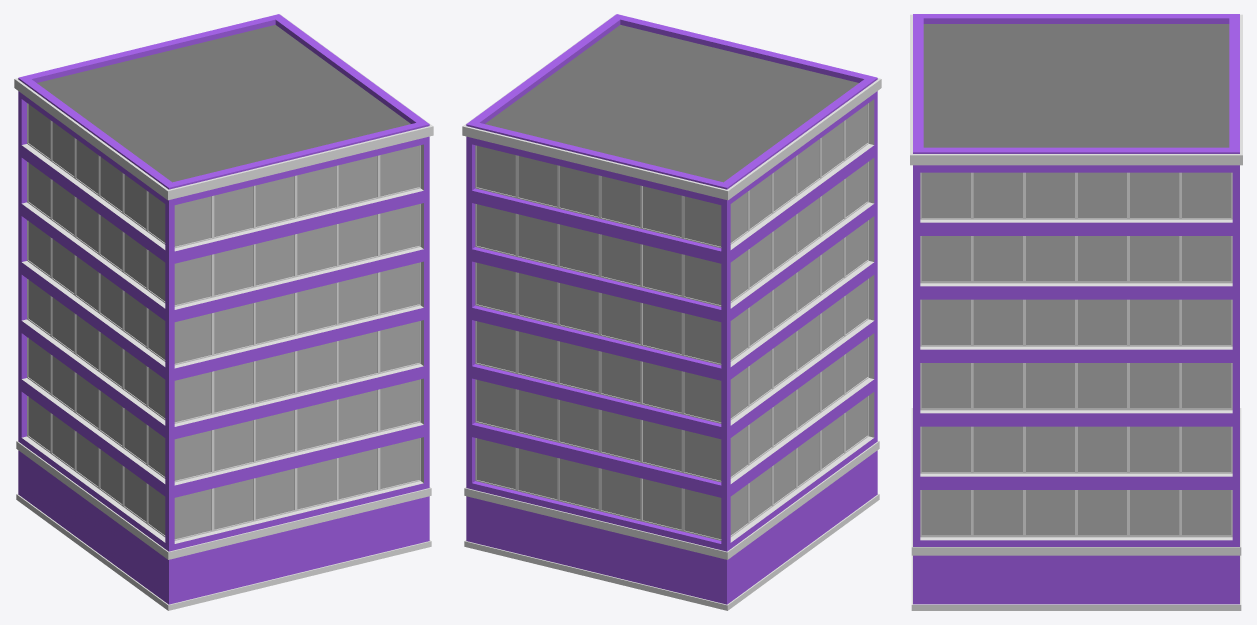
The model's file is SM_House_04_05.FBX.
3 views of the same model, side by side, from view 1: azimuth 30°, elevation 25°; view 2: azimuth 150°, elevation 25°; view 3: azimuth 270°, elevation 25° (orthographic). The views are drawn at different scales.
Visible parts, largest first — view 1: SM_House_04_05; view 2: SM_House_04_05; view 3: SM_House_04_05.
Part boxes in pixels (x1=…): SM_House_04_05: x1=14, y1=14, x2=433, y2=610; SM_House_04_05: x1=462, y1=14, x2=881, y2=610; SM_House_04_05: x1=910, y1=14, x2=1242, y2=610.
Bounding box in the file's own units: 6.11 × 9.28 × 6.11.
1 material, 1 textured.
